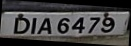character: (13, 16, 30, 34), (37, 17, 51, 34), (71, 16, 85, 33), (100, 16, 114, 32), (56, 17, 69, 34), (87, 16, 100, 33), (30, 17, 37, 34)
